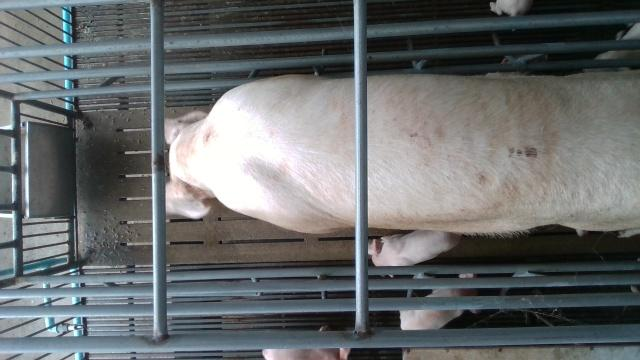piglet: (401, 273, 481, 331), (368, 229, 462, 266), (263, 325, 351, 360), (582, 22, 640, 72)
sow-stand: (165, 74, 640, 234)
